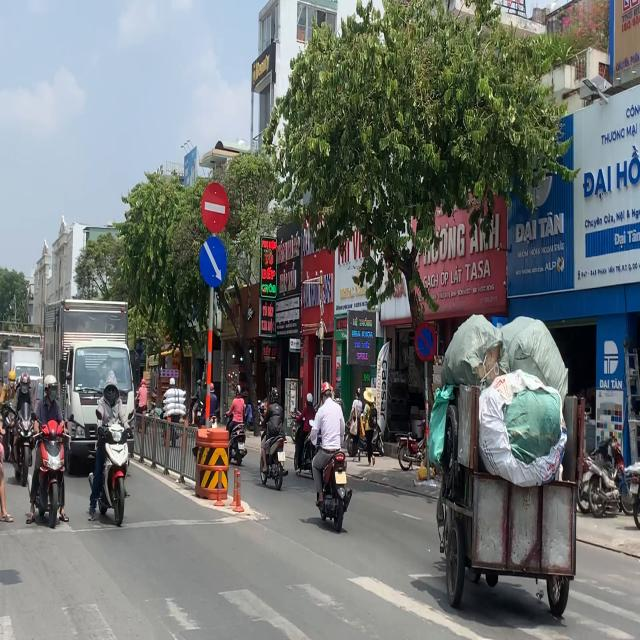Cam do: (414, 321, 437, 362)
Cam nguoc chieu: (201, 182, 230, 233)
Hieu lenh: (200, 235, 228, 288)
